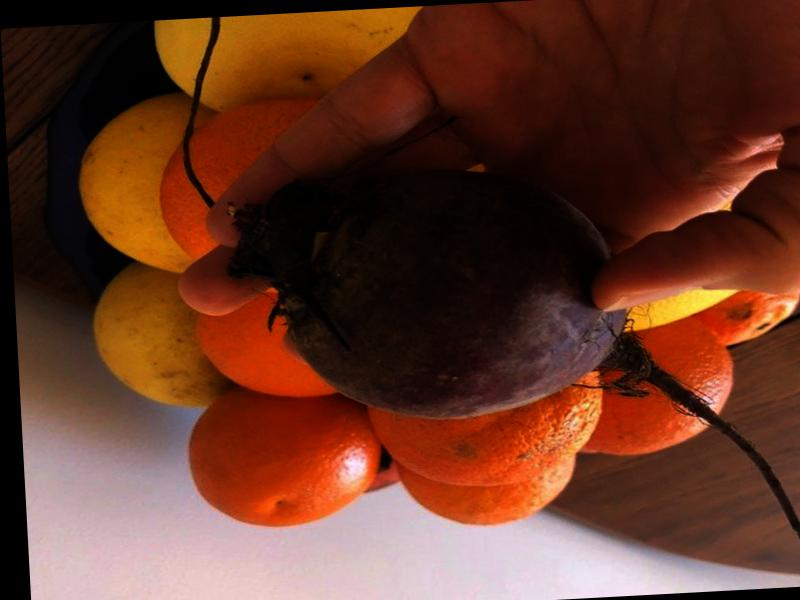Beet: (232, 152, 800, 574)
